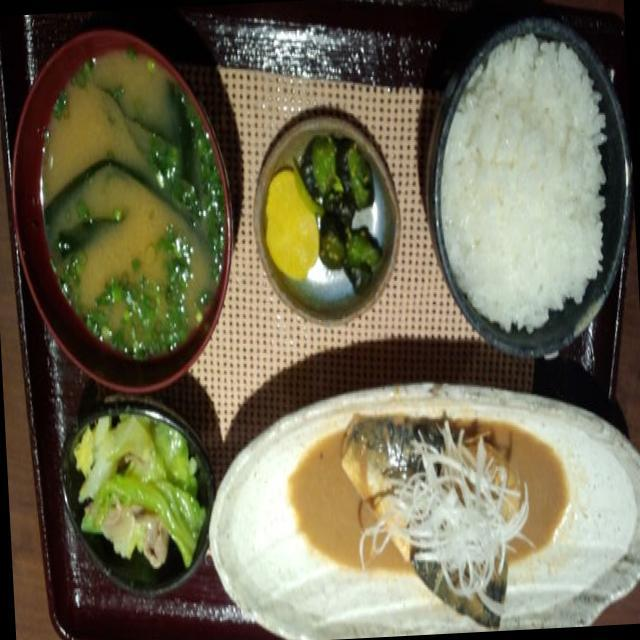Rice: (438, 35, 610, 338)
